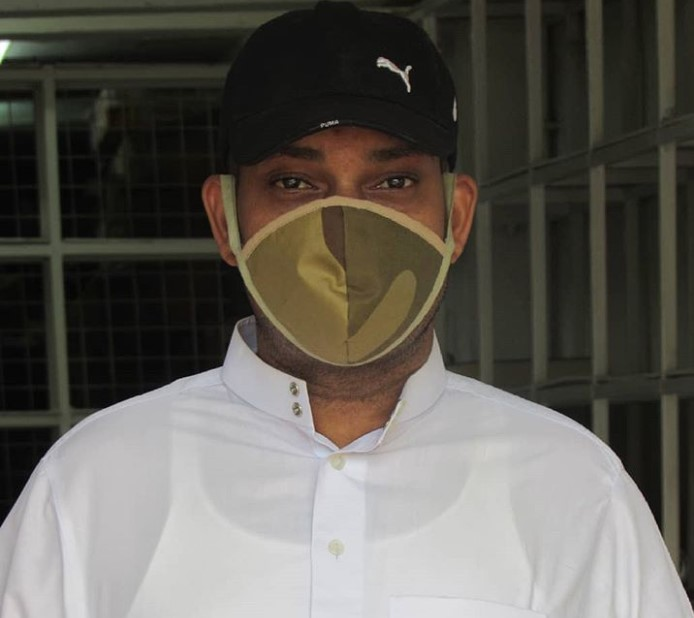face_with_mask: (204, 3, 481, 375)
